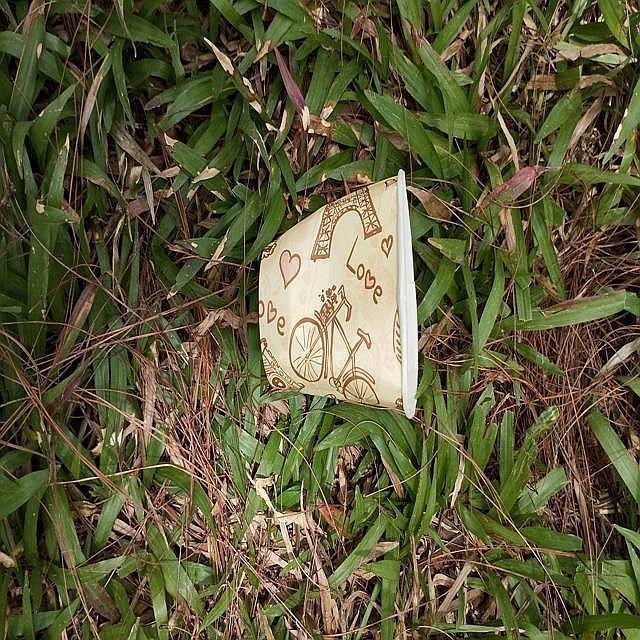Biodegradable: (260, 171, 421, 420)
